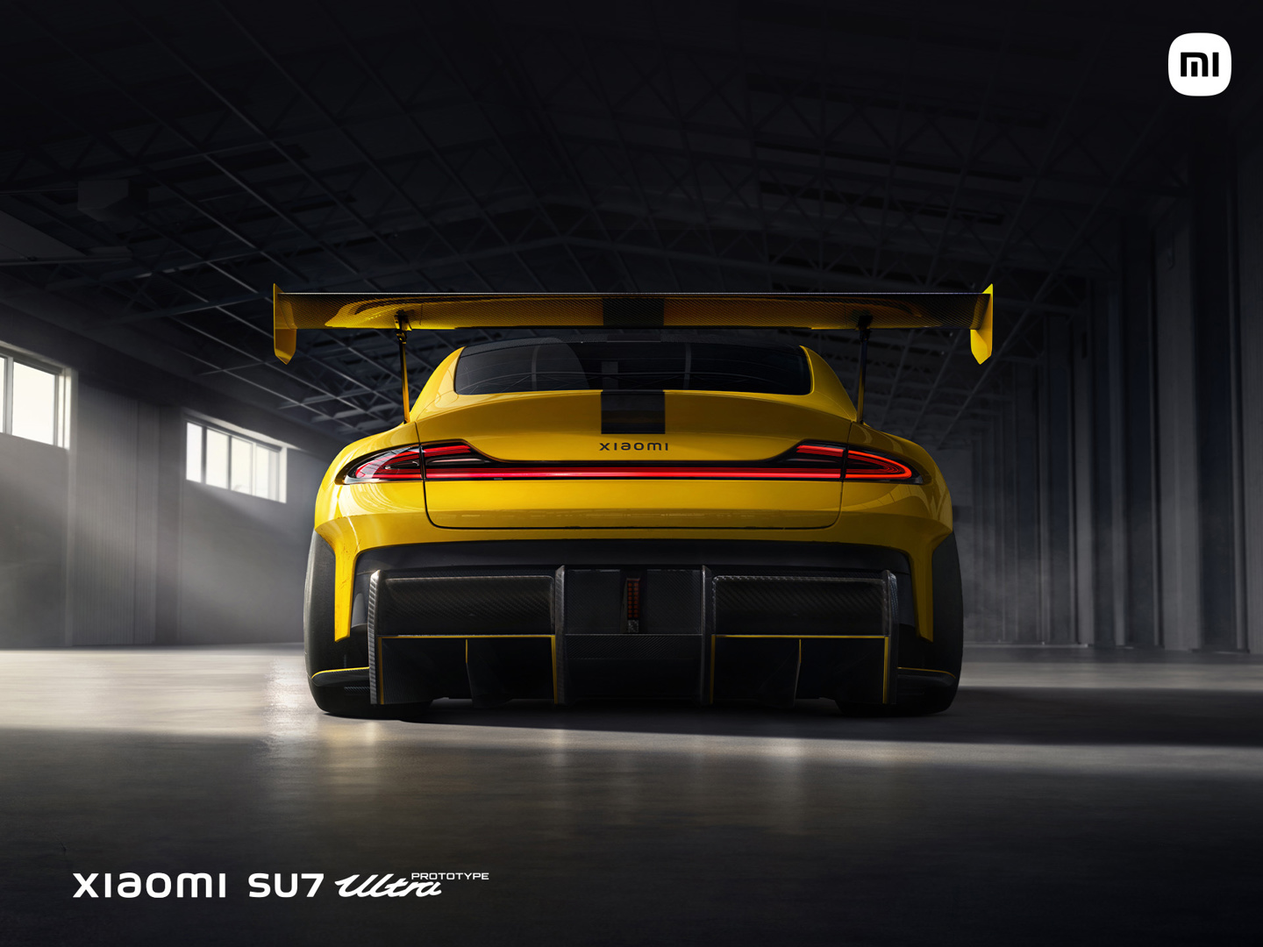su7: (262, 278, 989, 713)
